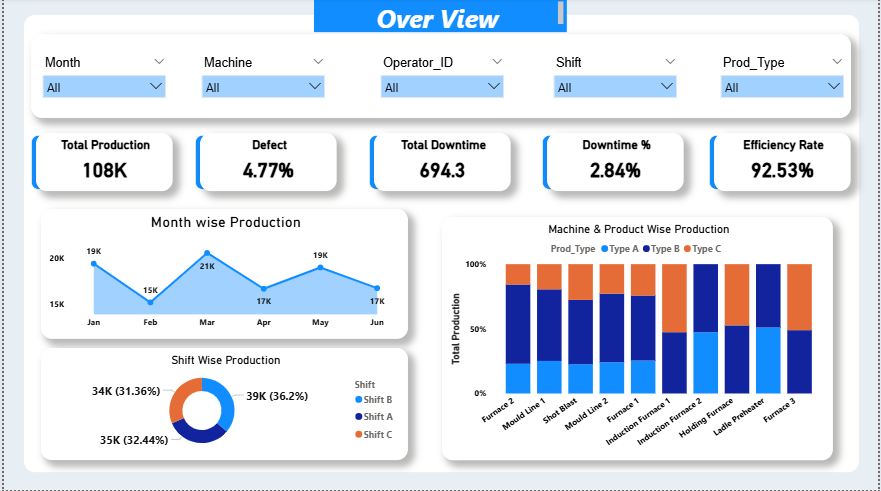

What the dashboard file says about the page in this screenshot:
{"tool":"powerbi","page":{"name":"Page 1","canvas":[1280,720],"ordinal":0},"visuals":[{"type":"textbox","box":[29.3,24.9,1222,668.8],"z":0},{"type":"textbox","box":[39.5,52.7,1200,122.9],"z":1000},{"type":"slicer","fields":{"Values":["Dim_DateTable.Month Name"]},"box":[46.8,78.4,200,70.2],"z":2000},{"type":"slicer","fields":{"Values":["Machine.Machine"]},"box":[279.5,78.4,200,70.2],"z":3000},{"type":"slicer","fields":{"Values":["Production.Operator_ID"]},"box":[541.5,78.4,200,70.2],"z":4000},{"type":"slicer","fields":{"Values":["Production.Shift"]},"box":[794.6,78.4,200,70.2],"z":5000},{"type":"slicer","fields":{"Values":["Product.Prod_Type"]},"box":[1039,78.4,200,70.2],"z":6000},{"type":"textbox","box":[39.5,199.8,14.6,80.5],"z":7000},{"type":"card","title":"Total Production","fields":{"Values":["Sum(Production.Actual_Qty)"]},"box":[47.3,197.6,200,85],"z":8000},{"type":"areaChart","title":"Month wise Production","fields":{"Category":["Production.Producion_Month"],"Y":["Sum(Production.Actual_Qty)"]},"box":[54.1,308.8,537.1,190.2],"z":13000},{"type":"donutChart","title":"Shift Wise Production","fields":{"Y":["Sum(Production.Actual_Qty)"],"Category":["Production.Shift"]},"box":[54.1,512.2,537.1,163.9],"z":14000},{"type":"hundredPercentStackedColumnChart","title":"Machine & Product Wise Production","fields":{"Category":["Machine.Machine"],"Y":["Sum(Production.Actual_Qty)"],"Series":["Product.Prod_Type"]},"box":[641,320.5,572.2,355.6],"z":15000},{"type":"textbox","box":[453.7,0,370.2,49.8],"z":16000},{"type":"textbox","box":[279.5,199.8,14.6,80.5],"z":17000},{"type":"textbox","box":[534.1,199.9,14.6,80.5],"z":18000},{"type":"textbox","box":[787.3,199.8,14.6,80.5],"z":19000},{"type":"textbox","box":[1031.7,199.8,14.6,80.5],"z":20000},{"type":"card","title":"Defect ","fields":{"Values":["Quality.Defect%"]},"box":[286.7,197.6,200,85],"z":20500},{"type":"card","title":"Total Downtime","fields":{"Values":["Downtime.Hours"]},"box":[540.8,197.7,200,85],"z":21000},{"type":"card","title":"Downtime %","fields":{"Values":["Downtime.Downtime%"]},"box":[795.2,197.6,200,85],"z":21500},{"type":"card","title":"Efficiency Rate","fields":{"Values":["Downtime.Efficiency_Rate"]},"box":[1039.5,197.6,200,85],"z":22000}]}

Visuals, with their boxes in screenshot pixels (x1, y1, x2, y2), scaled from the page's 1280x720 canvas onto the 881x491 screenshot:
textbox: <bbox>20, 17, 861, 473</bbox>
textbox: <bbox>27, 36, 853, 120</bbox>
slicer - Dim_DateTable.Month Name: <bbox>32, 53, 170, 101</bbox>
slicer - Machine.Machine: <bbox>192, 53, 330, 101</bbox>
slicer - Production.Operator_ID: <bbox>373, 53, 510, 101</bbox>
slicer - Production.Shift: <bbox>547, 53, 685, 101</bbox>
slicer - Product.Prod_Type: <bbox>715, 53, 853, 101</bbox>
textbox: <bbox>27, 136, 37, 191</bbox>
"Total Production" card: <bbox>33, 135, 170, 193</bbox>
"Month wise Production" areaChart: <bbox>37, 211, 407, 340</bbox>
"Shift Wise Production" donutChart: <bbox>37, 349, 407, 461</bbox>
"Machine & Product Wise Production" hundredPercentStackedColumnChart: <bbox>441, 219, 835, 461</bbox>
textbox: <bbox>312, 0, 567, 34</bbox>
textbox: <bbox>192, 136, 202, 191</bbox>
textbox: <bbox>368, 136, 378, 191</bbox>
textbox: <bbox>542, 136, 552, 191</bbox>
textbox: <bbox>710, 136, 720, 191</bbox>
"Defect " card: <bbox>197, 135, 335, 193</bbox>
"Total Downtime" card: <bbox>372, 135, 510, 193</bbox>
"Downtime %" card: <bbox>547, 135, 685, 193</bbox>
"Efficiency Rate" card: <bbox>715, 135, 853, 193</bbox>
